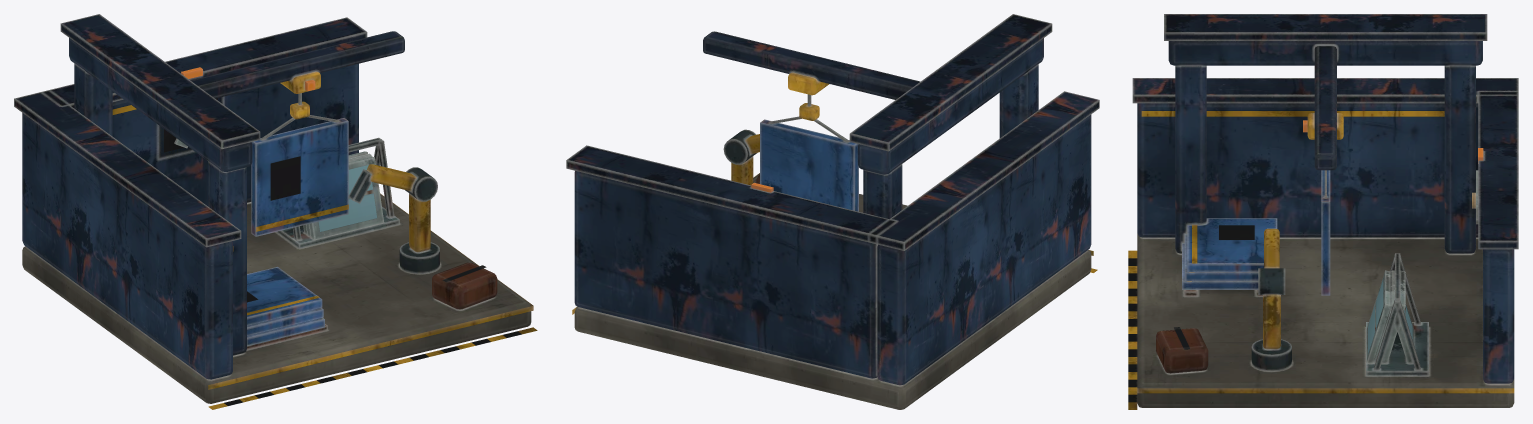
Rendered from housing_factory.glb.
3 renders of one model, left to right at view 1: azimuth 30°, elevation 25°; view 2: azimuth 150°, elevation 25°; view 3: azimuth 270°, elevation 25°, orthographic.
Visible parts, largest first — view 1: te_housing_factory; view 2: te_housing_factory; view 3: te_housing_factory.
Boxes of the visible parts, x1,y1,x2,y2 form: te_housing_factory: [14, 14, 537, 409]; te_housing_factory: [566, 14, 1099, 409]; te_housing_factory: [1128, 14, 1518, 409].
Bounding box in the file's own units: 0.86 × 0.615 × 0.87.
Materials: 1 (1 with a texture image).
